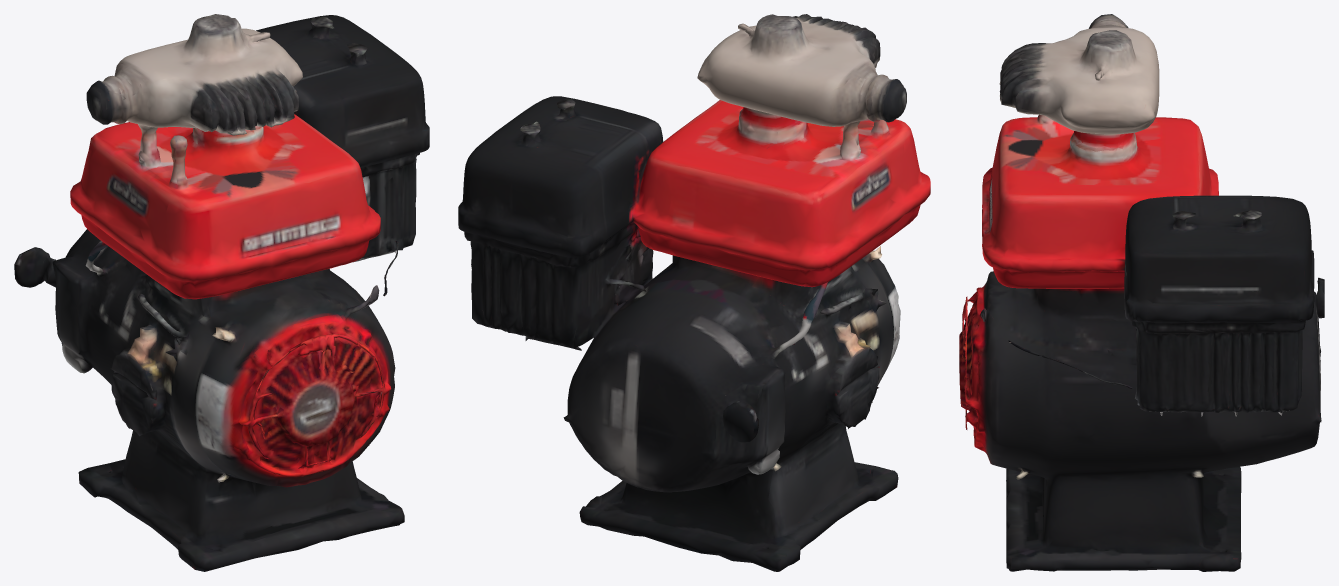
Rendered from base_basic_pbr.glb.
3 views of the same model, side by side, from view 1: azimuth 30°, elevation 25°; view 2: azimuth 150°, elevation 25°; view 3: azimuth 270°, elevation 25° (orthographic). The views are drawn at different scales.
Parts seen in each view (by area): view 1: model; view 2: model; view 3: model.
Boxes of the visible parts, x1,y1,x2,y2 form: model: [14, 14, 429, 571]; model: [458, 14, 930, 571]; model: [959, 14, 1324, 571].
Size of the model in its own units: 1.41 by 1.89 by 1.33.
1 material, 1 textured.
